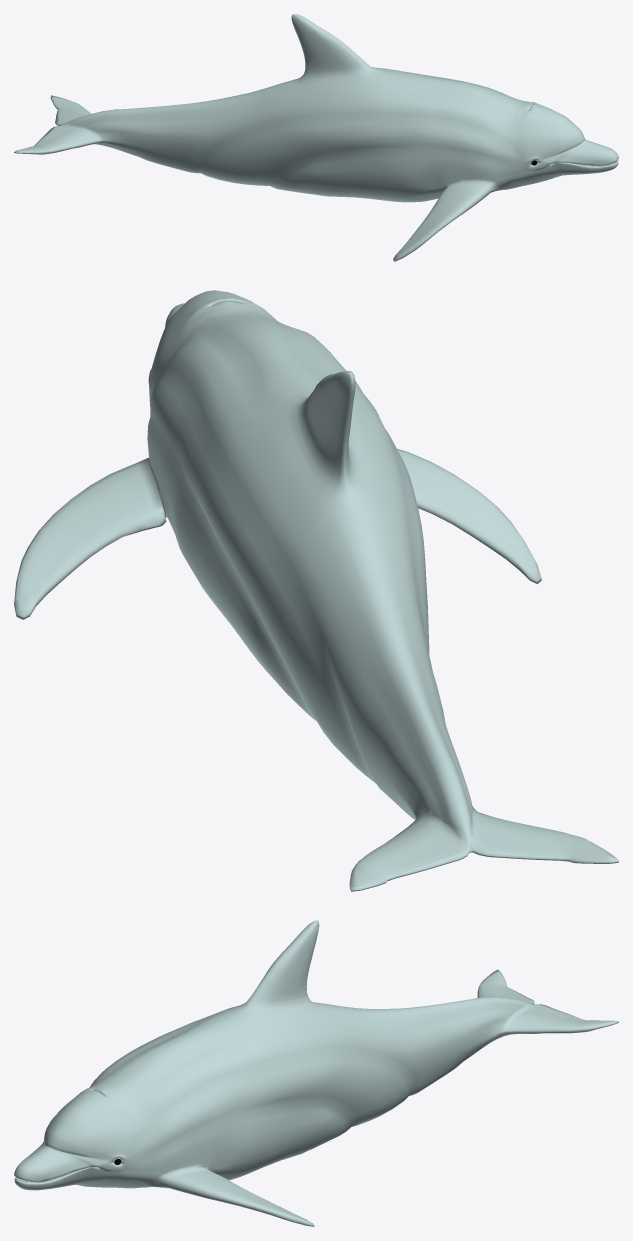
File: dolphin_000011.obj
3 views of the same model, one above another, from view 1: azimuth 30°, elevation 25°; view 2: azimuth 150°, elevation 25°; view 3: azimuth 270°, elevation 25° (orthographic). The views are drawn at different scales.
Parts seen in each view (by area): view 1: Dolphin; view 2: Dolphin; view 3: Dolphin.
Part boxes in pixels (left/top/right/bottom): Dolphin: left=14, top=14, right=618, bottom=261; Dolphin: left=14, top=290, right=618, bottom=891; Dolphin: left=14, top=920, right=618, bottom=1226.
Bounding box in the file's own units: 5.52 × 2.25 × 5.6.
